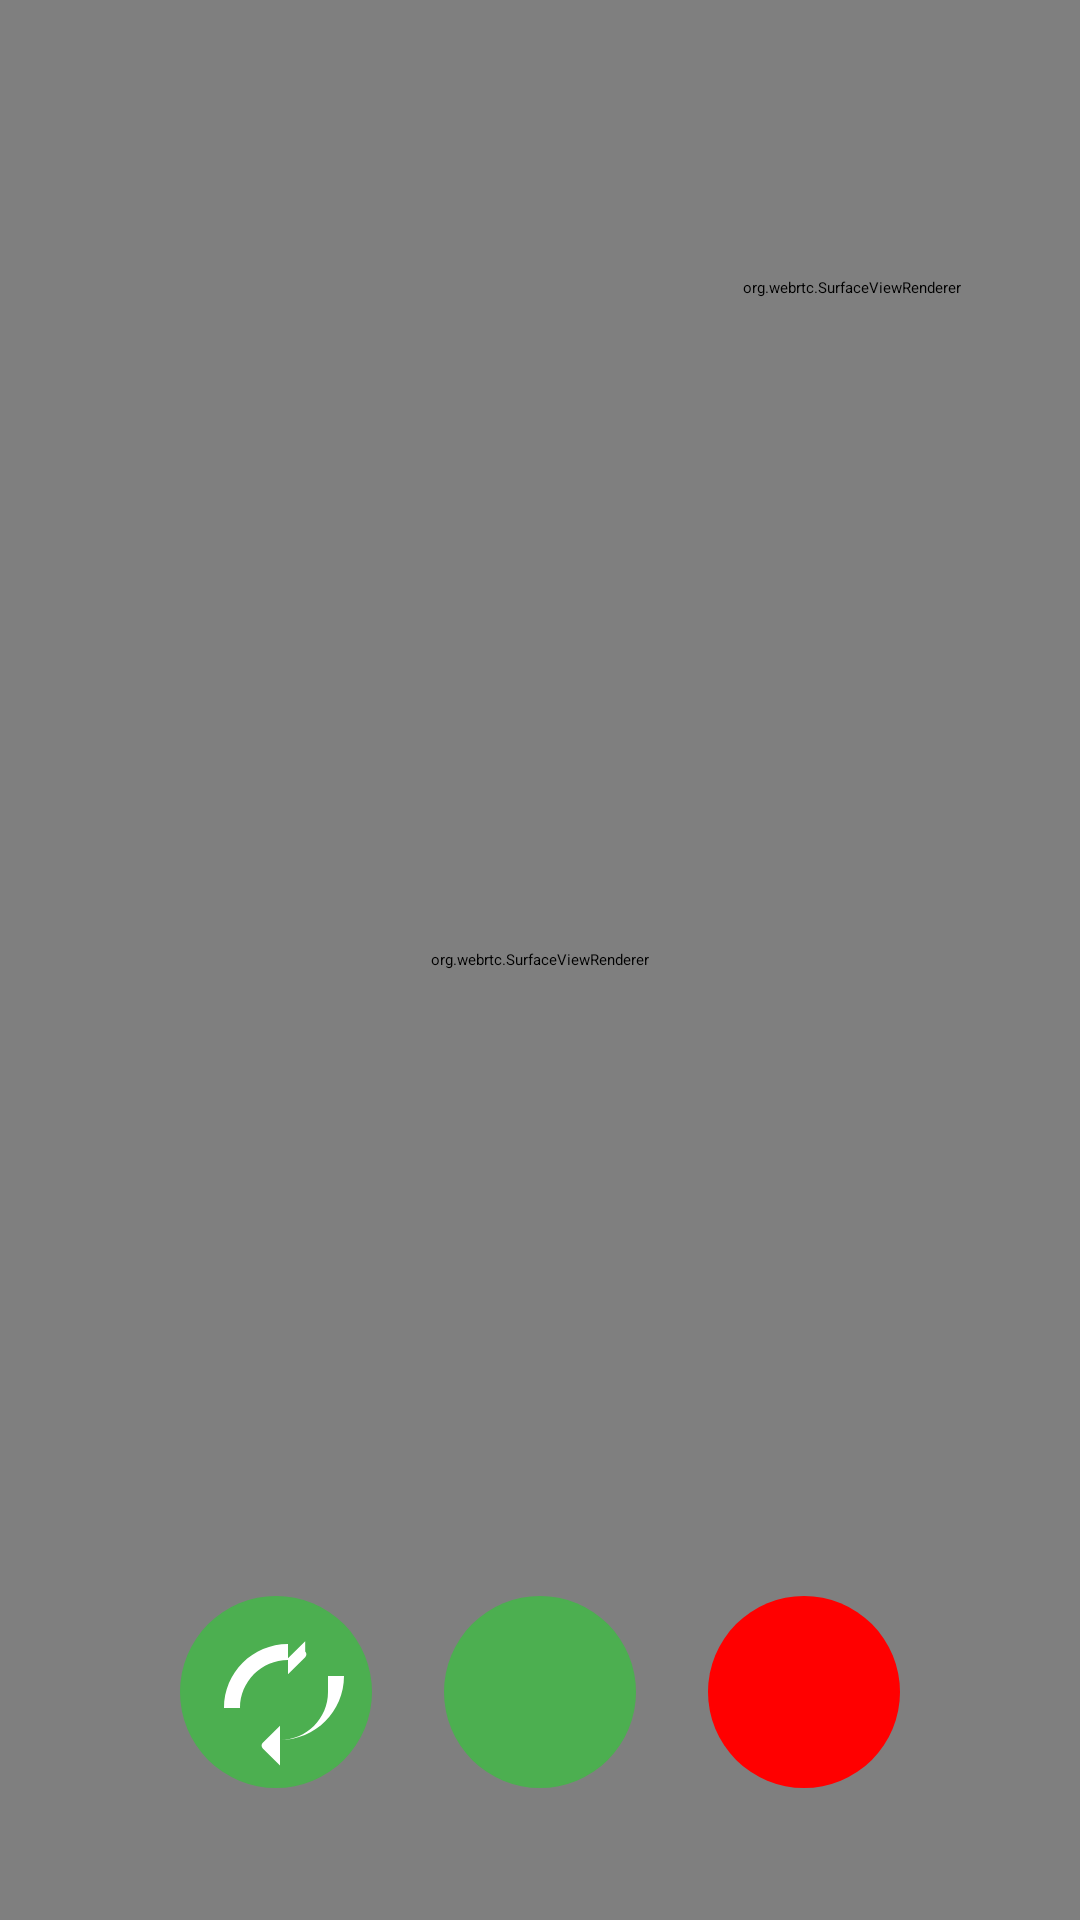

Icons on this 1080px×1920px Android screen, each with its box as Rect(x1, y1, x2, y2):
Switch camera: Rect(180, 1596, 372, 1788)
